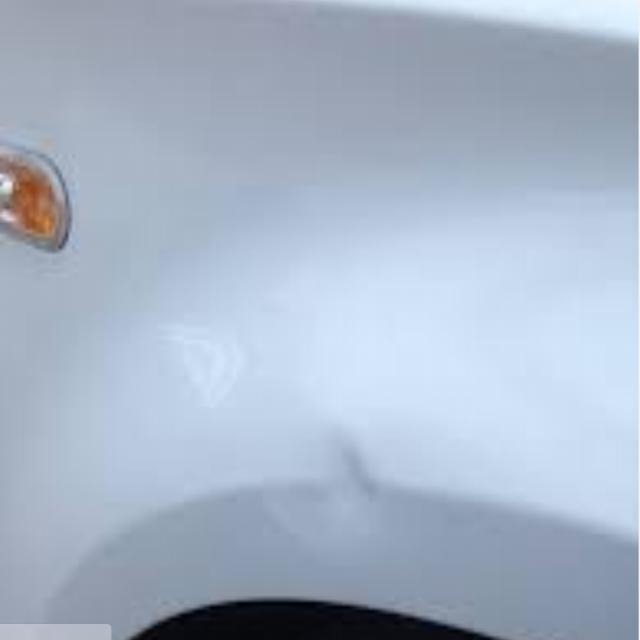dents: (269, 390, 388, 572)
